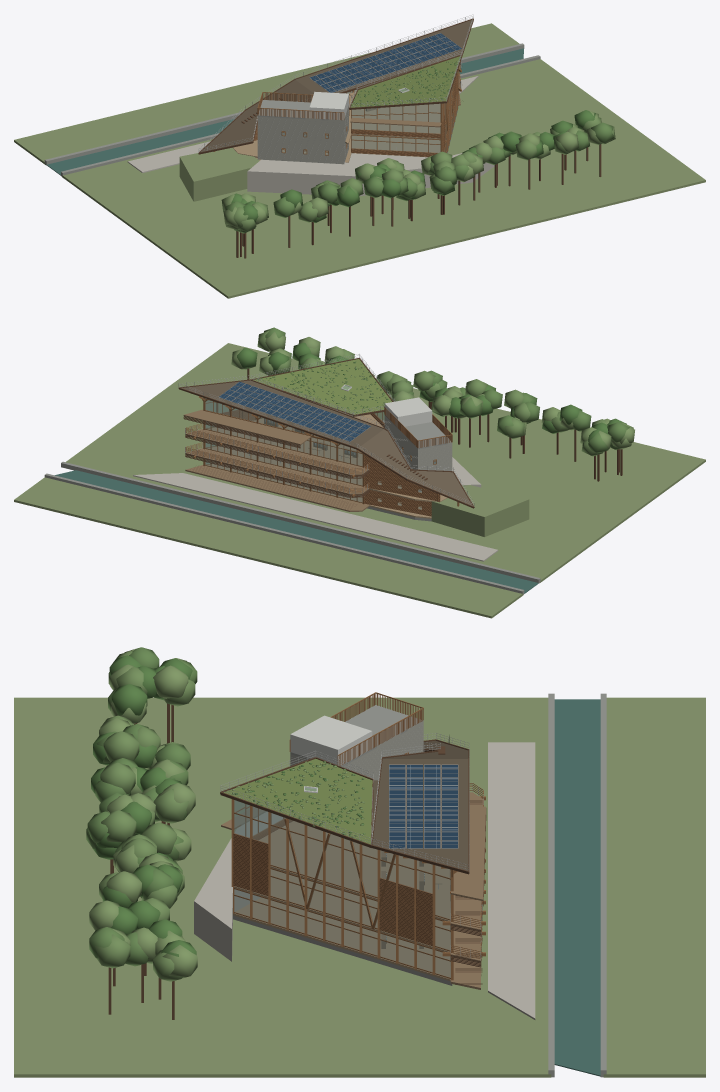
3 renders of one model, top to bottom at view 1: azimuth 30°, elevation 25°; view 2: azimuth 150°, elevation 25°; view 3: azimuth 270°, elevation 25°, orthographic. The views are drawn at different scales.
Visible parts, largest first — view 1: 08_基地, 鄰棟與植栽, 02_屋頂, 06_服務核心, 04_門窗, 01_樓板基座, 03_木構, 05_陽台遮棚; view 2: 08_基地, 02_屋頂, 鄰棟與植栽, 05_陽台遮棚, 04_門窗, 06_服務核心, 01_樓板基座, 03_木構; view 3: 08_基地, 鄰棟與植栽, 04_門窗, 02_屋頂, 01_樓板基座, 06_服務核心, 03_木構, 05_陽台遮棚.
Boxes of the visible parts, x1,y1,x2,y2 form: 08_基地: (14, 23, 705, 298); 鄰棟與植栽: (221, 110, 615, 258); 02_屋頂: (198, 14, 473, 154); 06_服務核心: (257, 91, 349, 164); 04_門窗: (254, 70, 458, 156); 01_樓板基座: (233, 69, 458, 162); 03_木構: (214, 66, 461, 152); 05_陽台遮棚: (345, 61, 461, 150); 08_基地: (14, 343, 705, 618); 02_屋頂: (178, 354, 474, 508); 鄰棟與植栽: (231, 327, 634, 481); 05_陽台遮棚: (183, 409, 369, 511); 04_門窗: (205, 398, 440, 516); 06_服務核心: (384, 397, 452, 491); 01_樓板基座: (207, 414, 447, 521); 03_木構: (193, 396, 459, 506); 08_基地: (14, 693, 705, 1077); 鄰棟與植栽: (86, 647, 197, 1019); 04_門窗: (233, 800, 450, 978); 02_屋頂: (220, 733, 469, 874); 01_樓板基座: (233, 821, 452, 985); 06_服務核心: (289, 692, 423, 780); 03_木構: (231, 796, 485, 980); 05_陽台遮棚: (221, 783, 486, 989).
Bounding box in the file's own units: 94 × 16.4 × 73.
